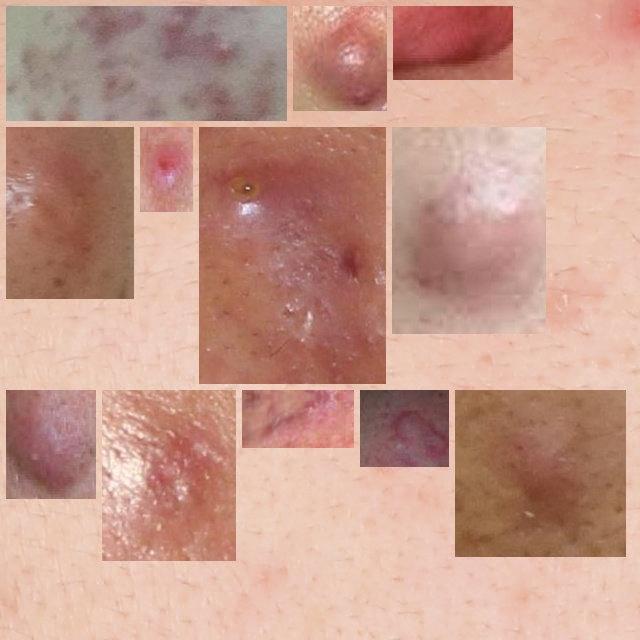nodule: (207, 135, 378, 376), (14, 7, 279, 113), (400, 135, 538, 326), (463, 398, 618, 549), (110, 398, 228, 553), (14, 135, 126, 291), (301, 14, 379, 103), (14, 398, 88, 491), (401, 14, 505, 72), (250, 398, 346, 447), (368, 398, 441, 459), (148, 135, 185, 204)
